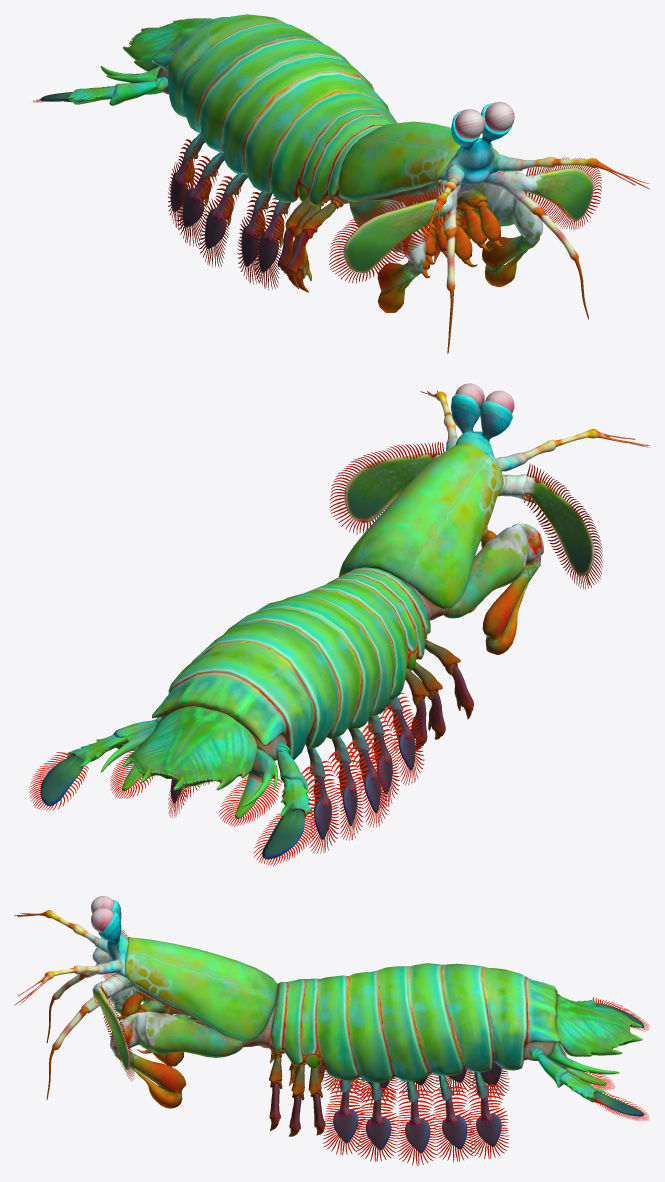
Rendered from mantis.glb.
3 renders of one model, top to bottom at view 1: azimuth 30°, elevation 25°; view 2: azimuth 150°, elevation 25°; view 3: azimuth 270°, elevation 25°, orthographic. The views are drawn at different scales.
Visible parts, largest first — view 1: mantis_shrimp.1; view 2: mantis_shrimp.1; view 3: mantis_shrimp.1.
Boxes of the visible parts, x1,y1,x2,y2 form: mantis_shrimp.1: (33,14,649,354); mantis_shrimp.1: (29,383,650,866); mantis_shrimp.1: (14,896,648,1165).
Size of the model in its own units: 0.0391 by 0.0364 by 0.0901.
1 material, 1 textured.
